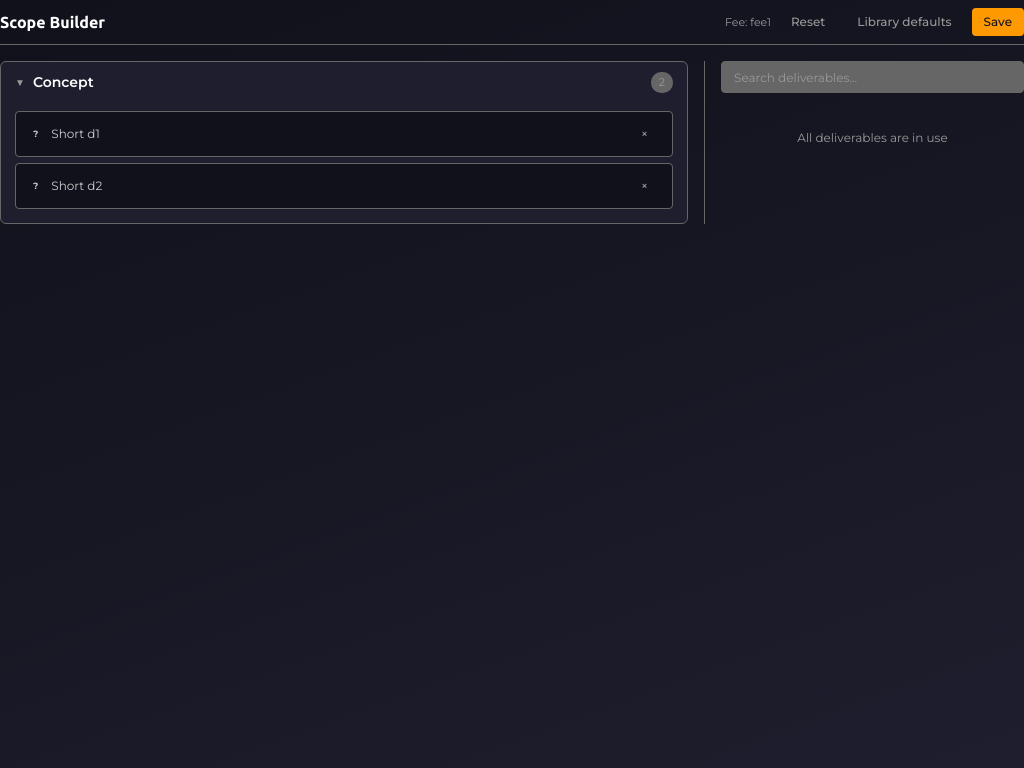
Test: ScopeBuilder save state › sends detail-modal wording edits as wording_override and only then reports saved
Double-click the list item titled "Remove deliverable" at (344, 134), box [15,111,673,157]
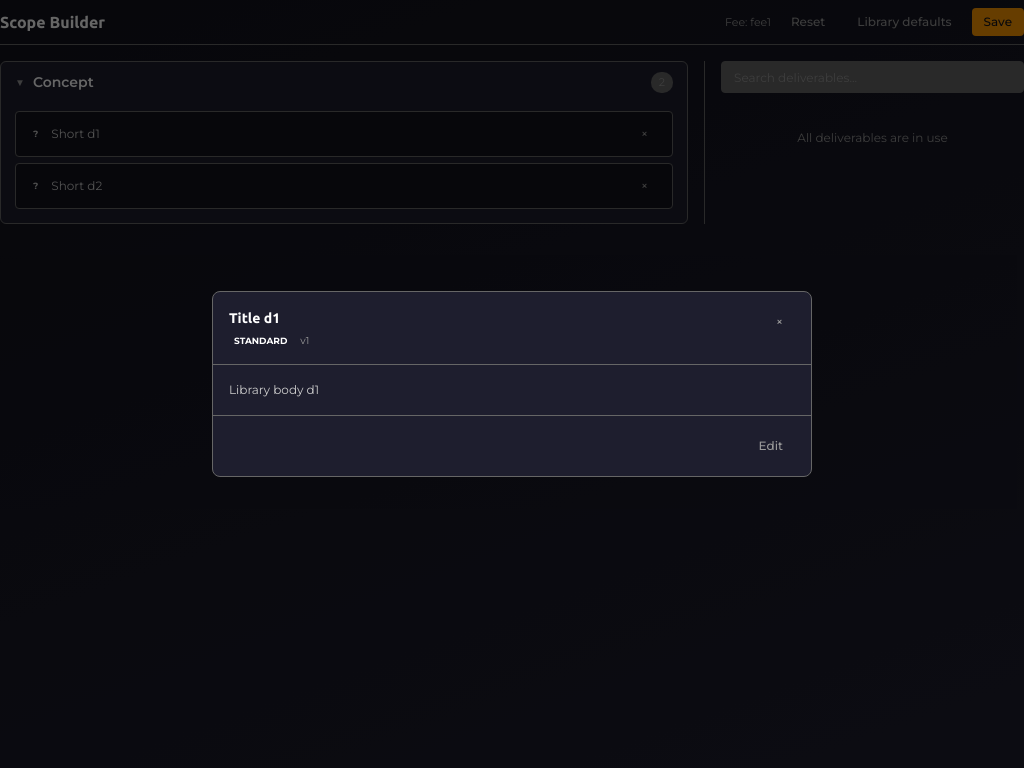
Click the button "Edit" at (771, 446), box [747,432,795,460]
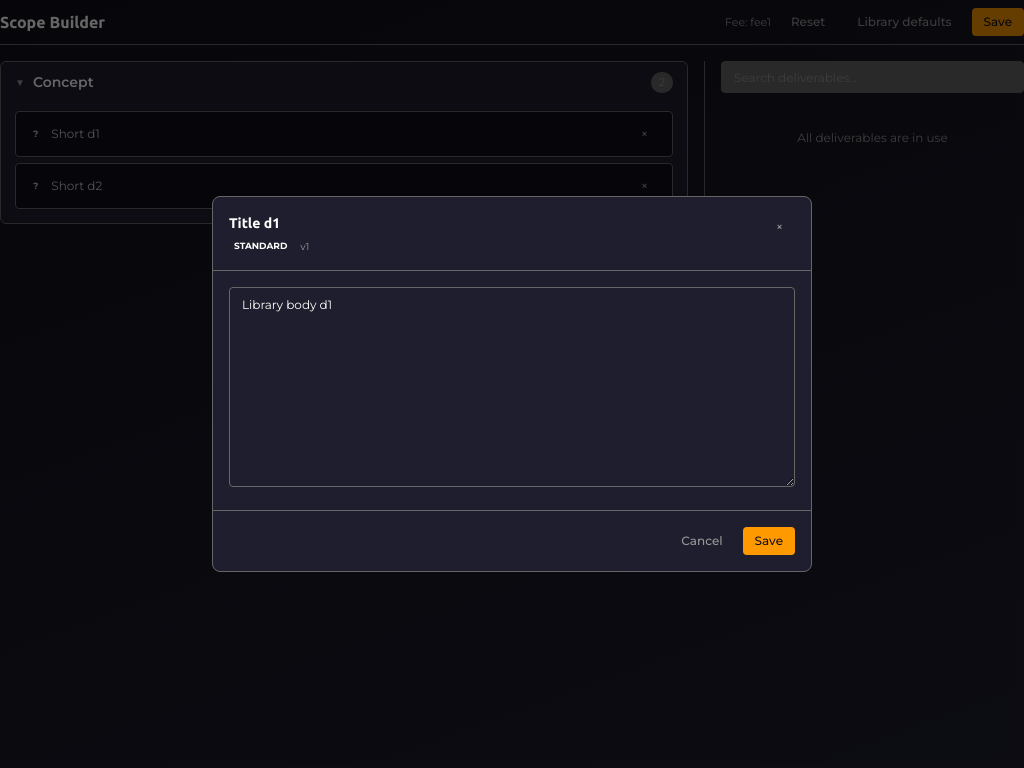
Replace the text in the text box with "Edited wording" at (512, 387), box [229,287,795,487]
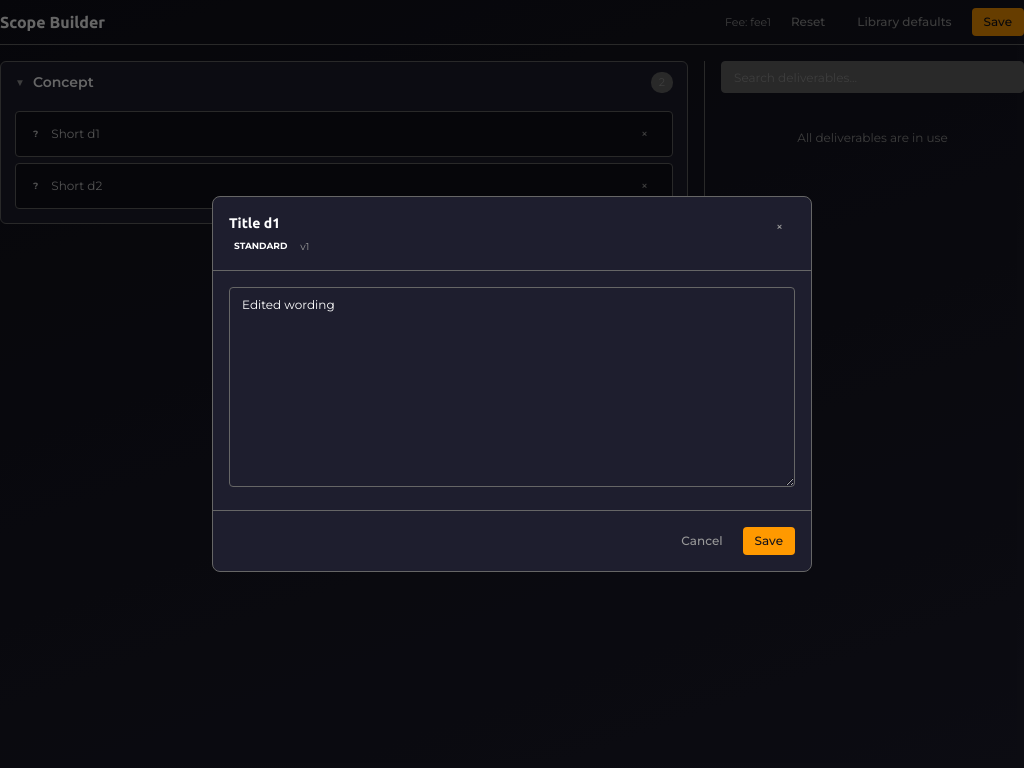
Click the button "Save" at (769, 541), box [743,527,795,555]
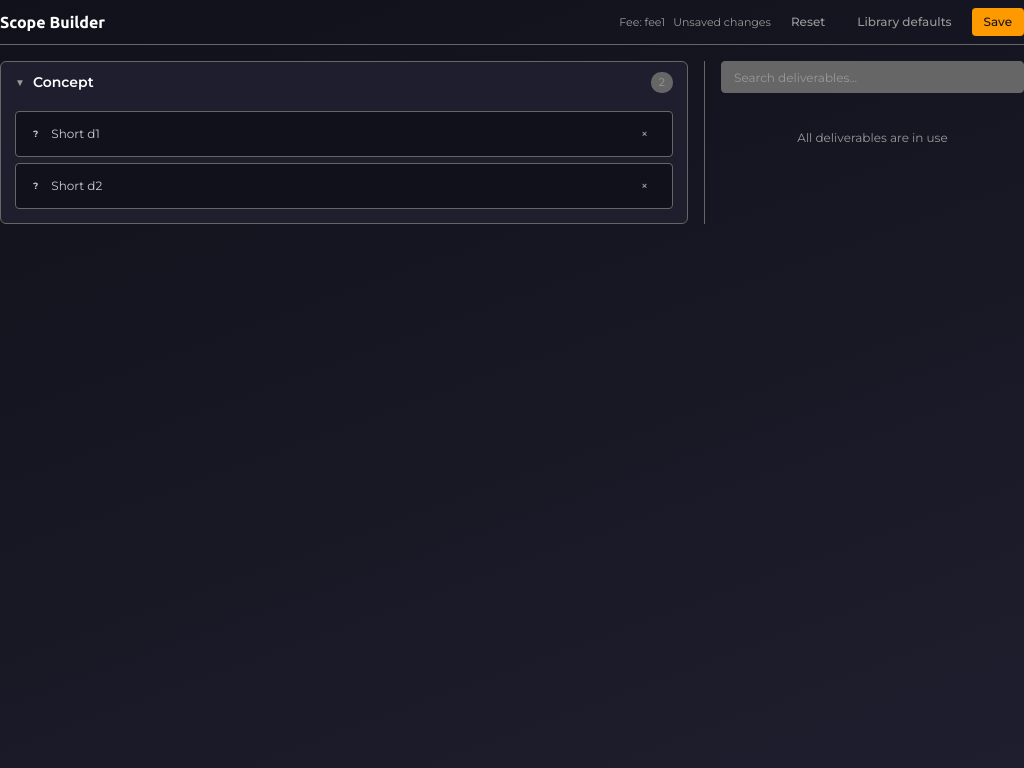
Expected: the text "Unsaved changes" is shown, [673,14,771,30]
Click the button "Save" at (998, 22), box [972,8,1023,36]
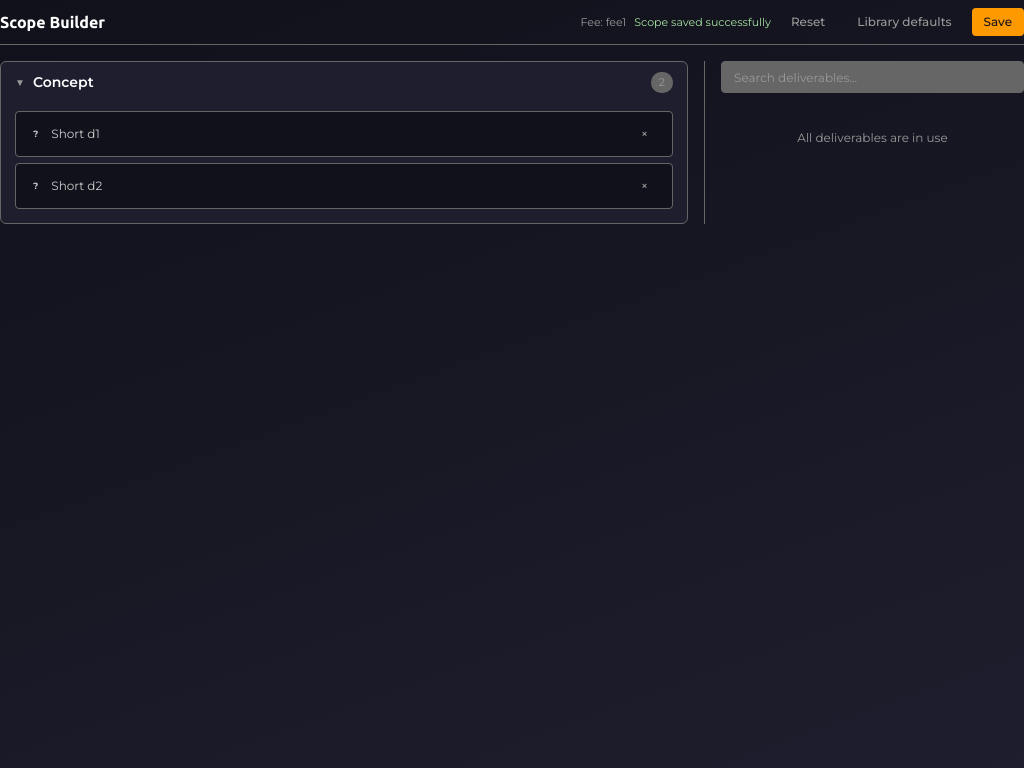
Expected: the text "Scope saved successfully" is shown, [634,14,771,30]
Expected: the text "Unsaved changes" is gone
